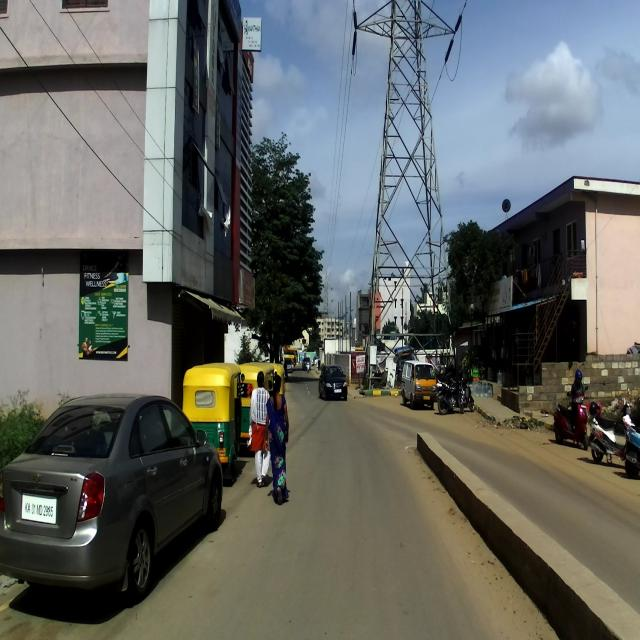autorickshaw: (182, 362, 245, 474)
car: (0, 392, 223, 604)
motorcycle: (587, 398, 636, 466), (553, 383, 588, 449)
